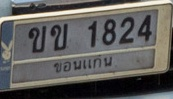txt02: (27, 25, 47, 55), (50, 23, 69, 51)
